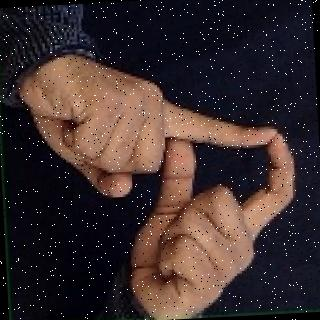D: (25, 43, 308, 319)
